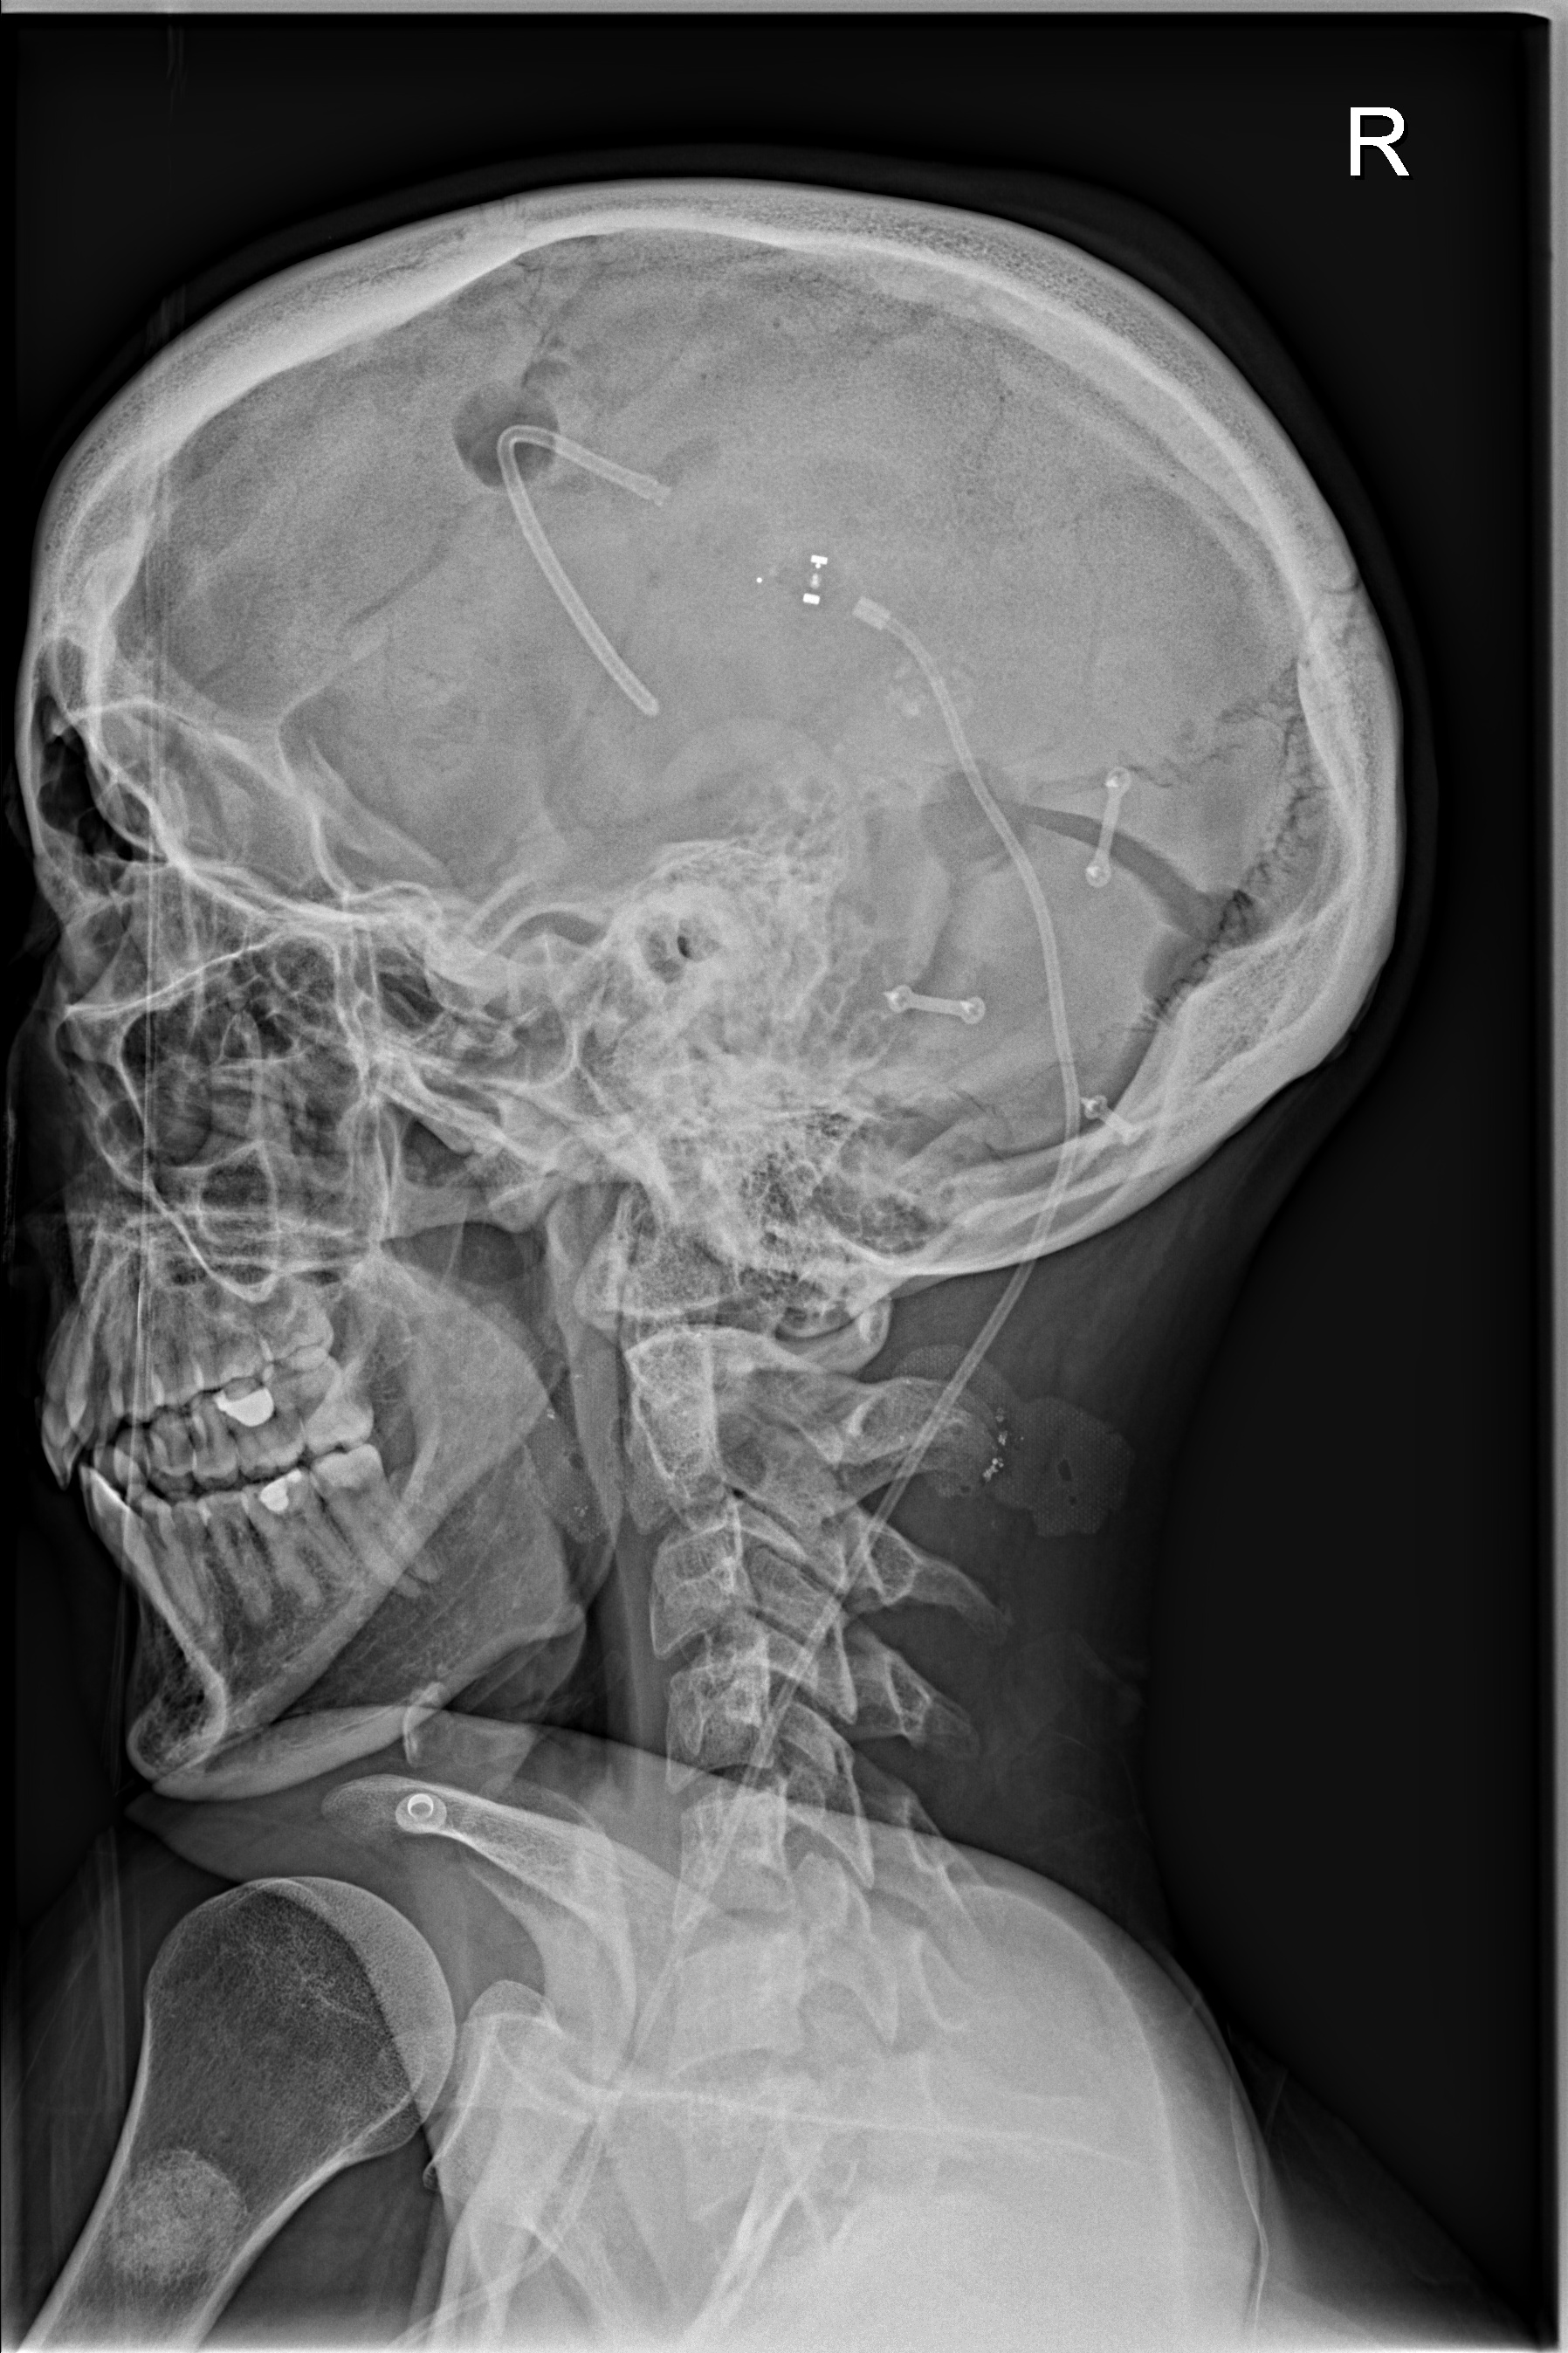Codman Certas: (738, 521, 863, 640)
